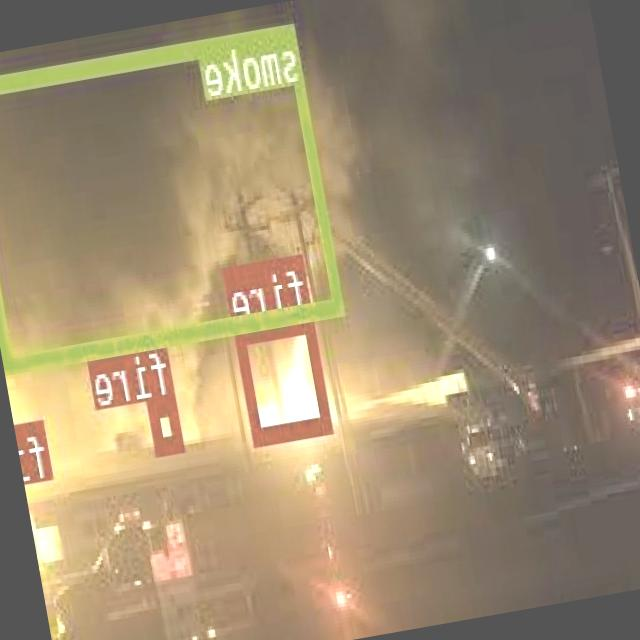fire: (236, 311, 334, 441), (148, 396, 184, 450), (18, 418, 52, 472)
smoke: (0, 20, 345, 367)
